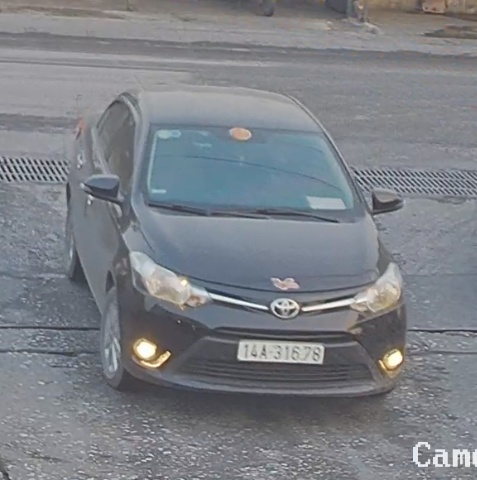vehicle plate: (233, 333, 325, 370)
